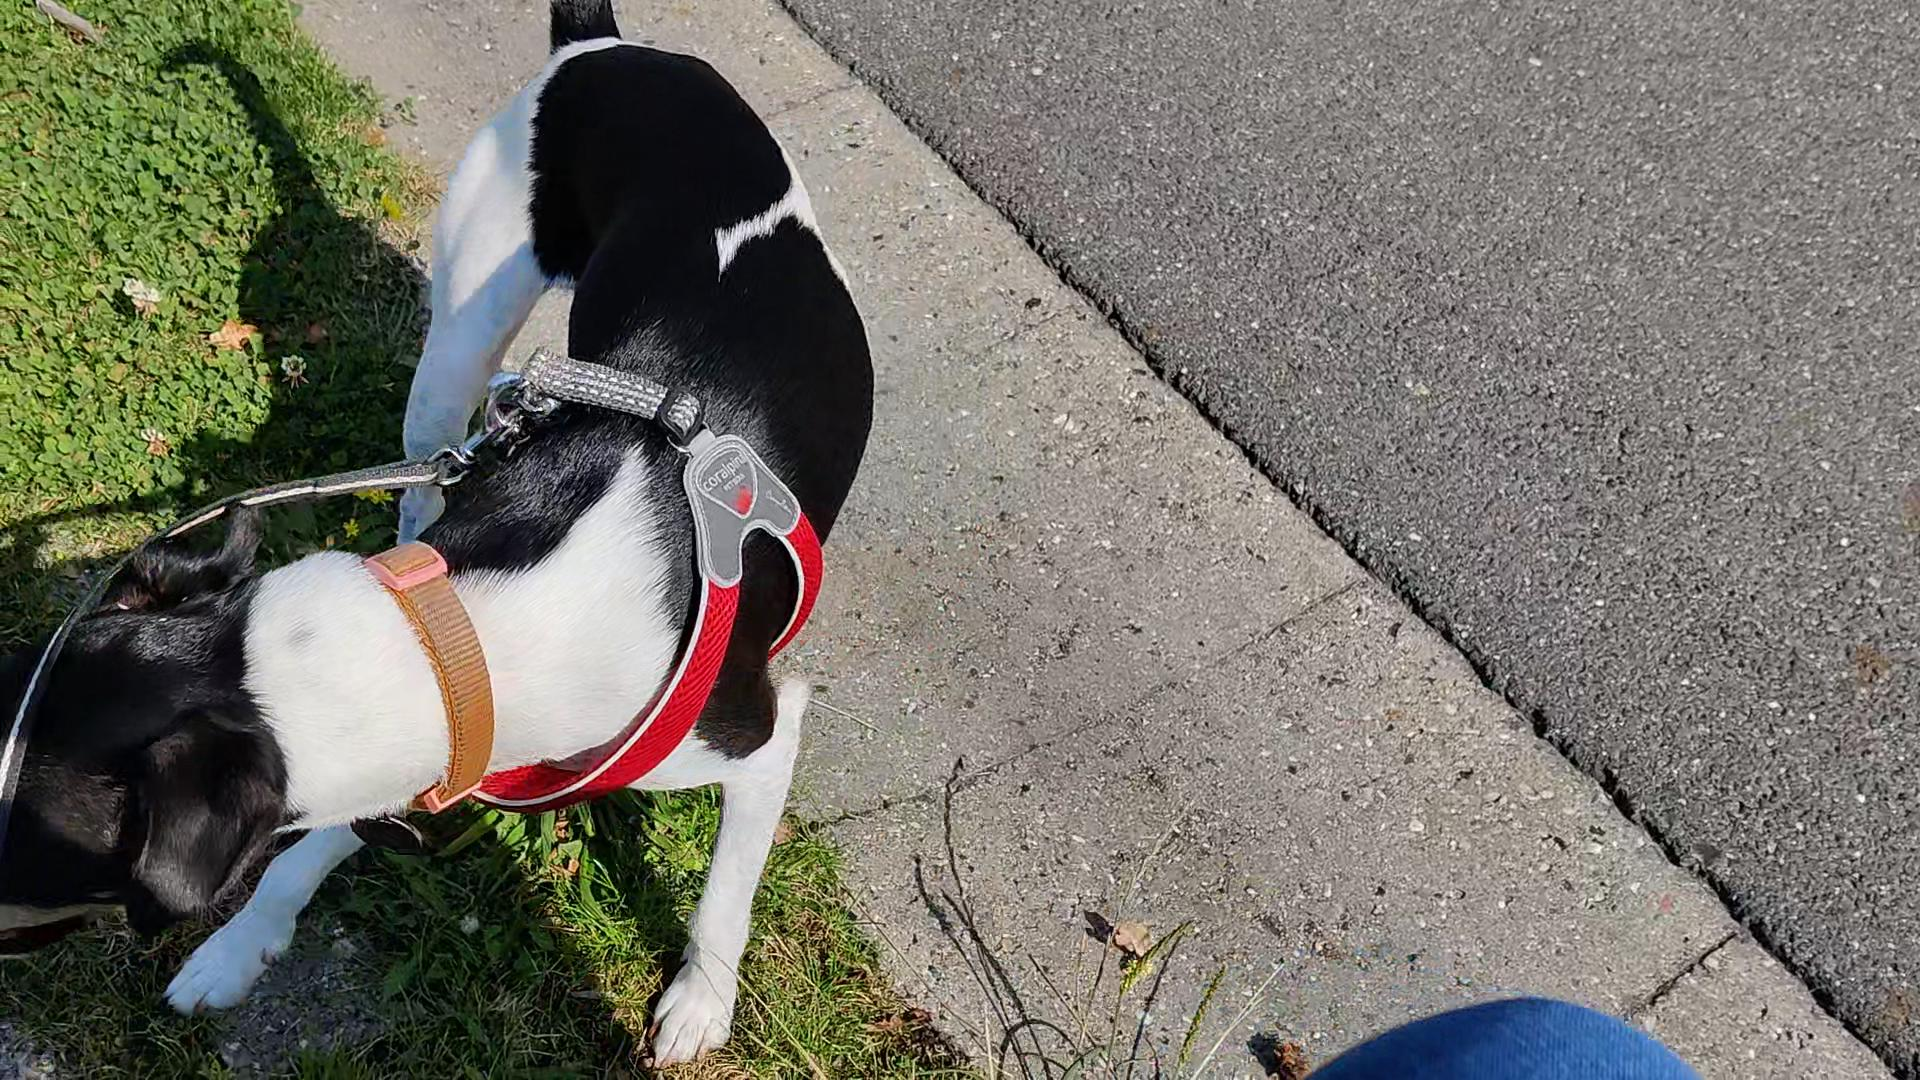Dog: (0, 0, 885, 1065)
